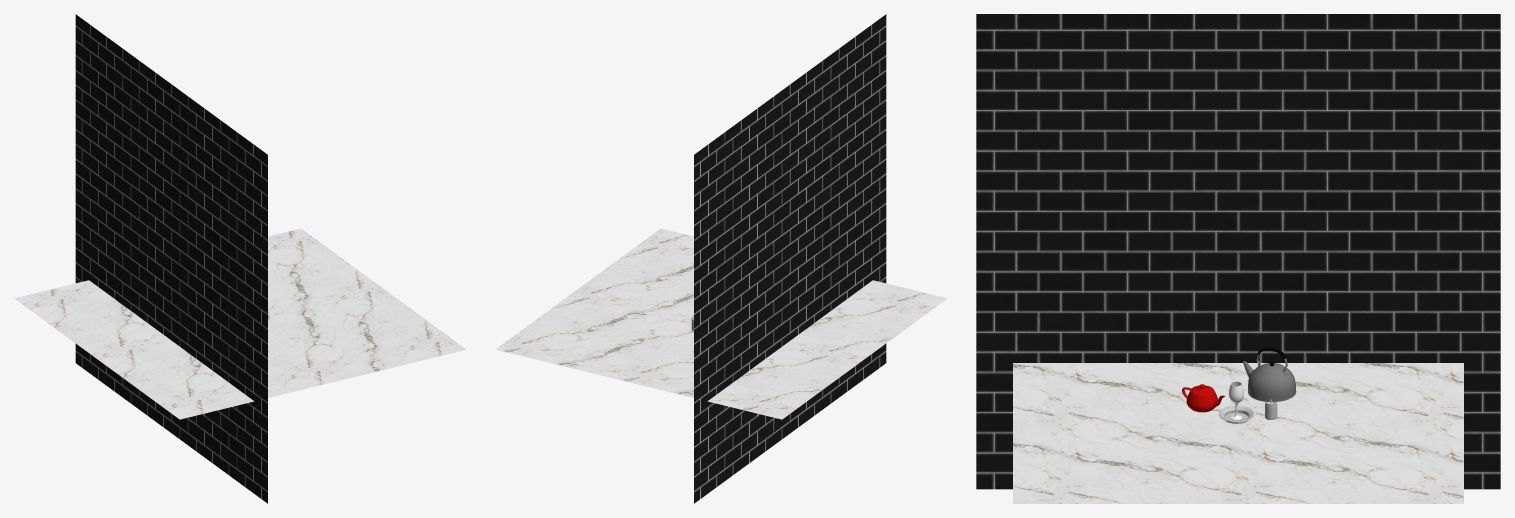
The model's file is wineNew.obj.
3 renders of one model, left to right at view 1: azimuth 30°, elevation 25°; view 2: azimuth 150°, elevation 25°; view 3: azimuth 270°, elevation 25°, orthographic. The views are drawn at different scales.
Visible parts, largest first — view 1: Plane.001, Plane; view 2: Plane.001, Plane; view 3: Plane.001, Plane, Teapot.001, Tea_pot.
Boxes of the visible parts, box(x1,y1,x2,y2) form: Plane.001: box(75, 14, 267, 503); Plane: box(14, 228, 466, 419); Plane.001: box(694, 14, 886, 503); Plane: box(495, 228, 947, 419); Plane.001: box(976, 14, 1500, 489); Plane: box(1013, 363, 1463, 503); Teapot.001: box(1243, 361, 1296, 401); Tea_pot: box(1182, 384, 1224, 412).
Bounding box in the file's own units: 2 × 2.32 × 2.32.
